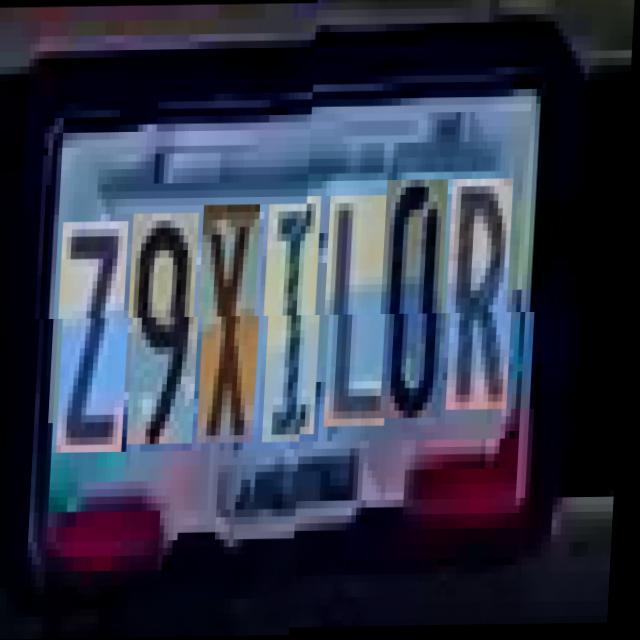0: (384, 188, 454, 427)
9: (131, 213, 206, 444)
I: (266, 204, 328, 443)
L: (328, 203, 398, 434)
R: (450, 188, 520, 418)
X: (201, 205, 267, 444)
Z: (61, 222, 136, 452)
